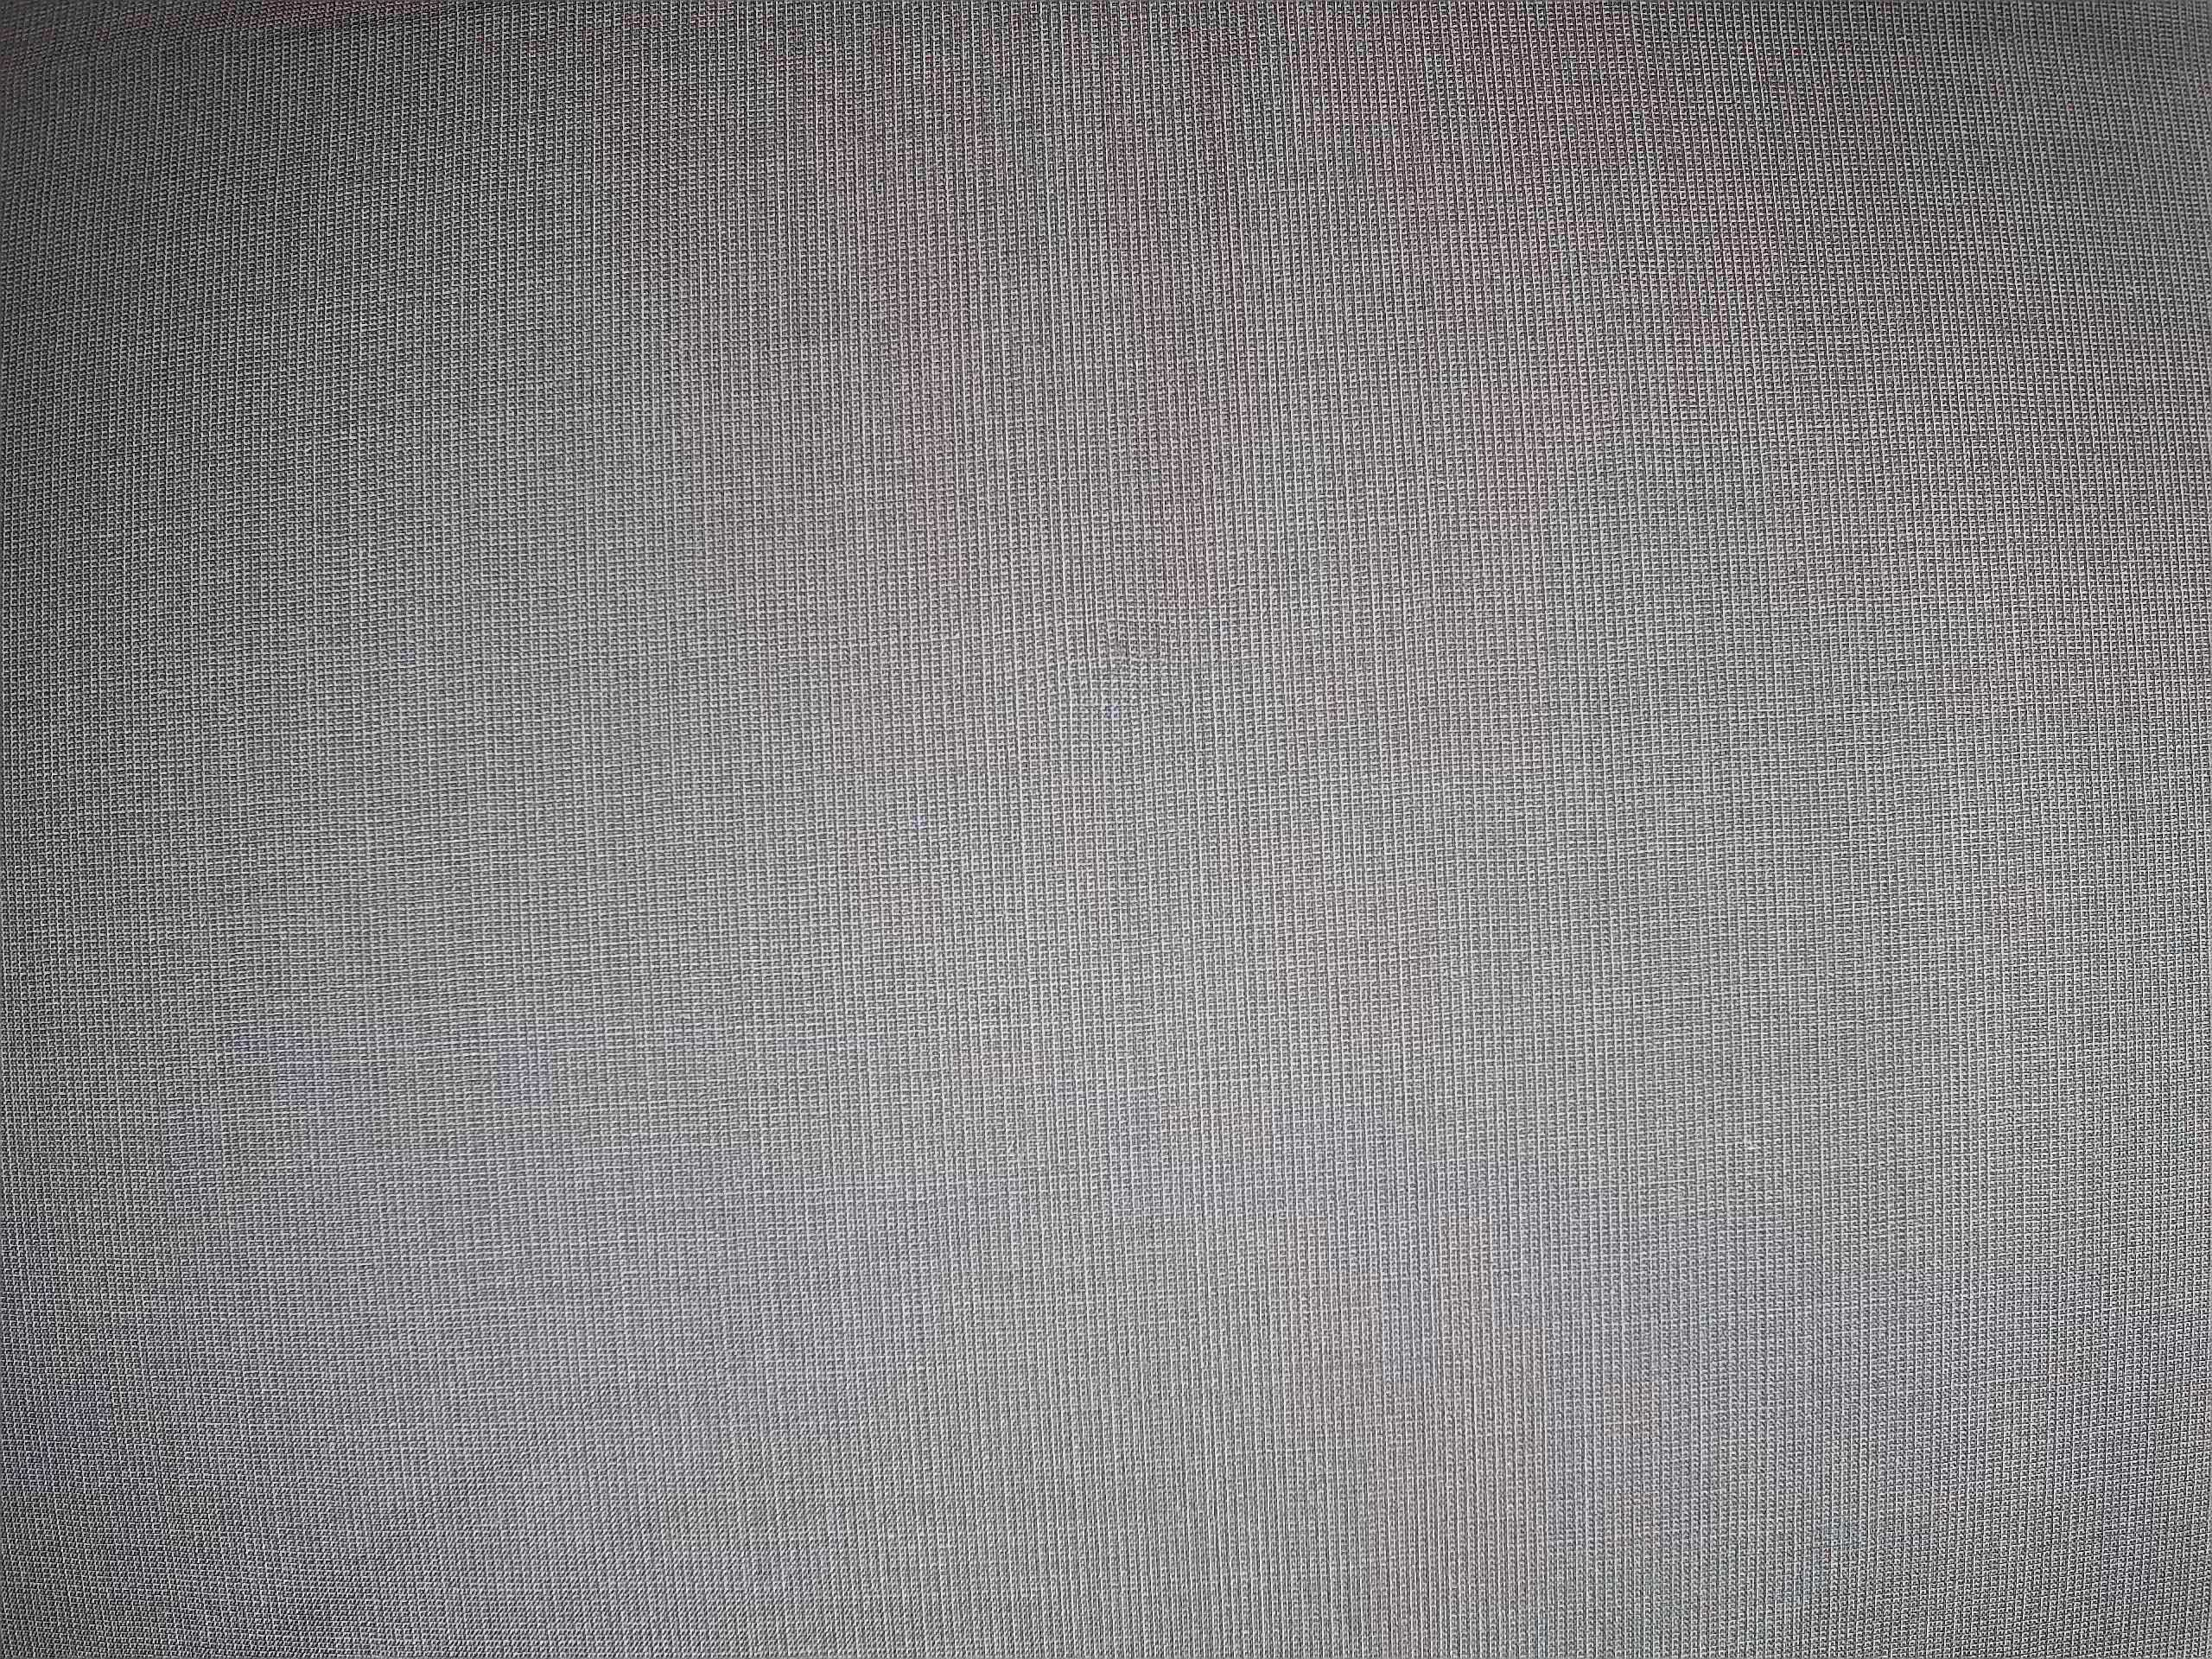thin-spinning: (1038, 598, 1216, 728)
